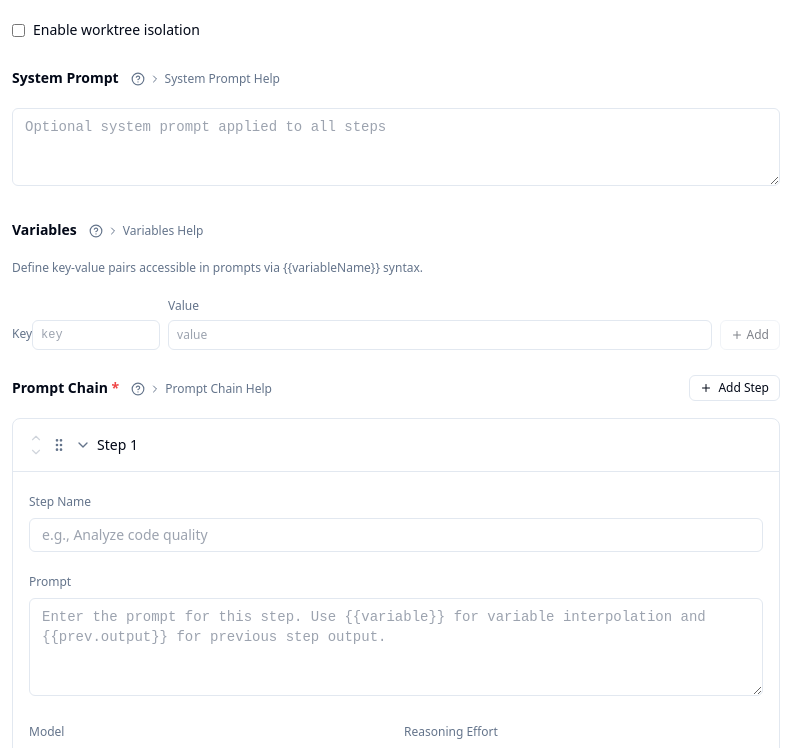
it: AutomationEditorPage › adds a step when 'Add Step' button is clicked
(page scrolled)
Check: the text "Step 1" is shown, box [97,435,138,455]
What coordinates should you click on to do the following:
click the button "Add Step"
I would click on:
 (735, 388)
Its box is [689,375,780,401].
(page scrolled)
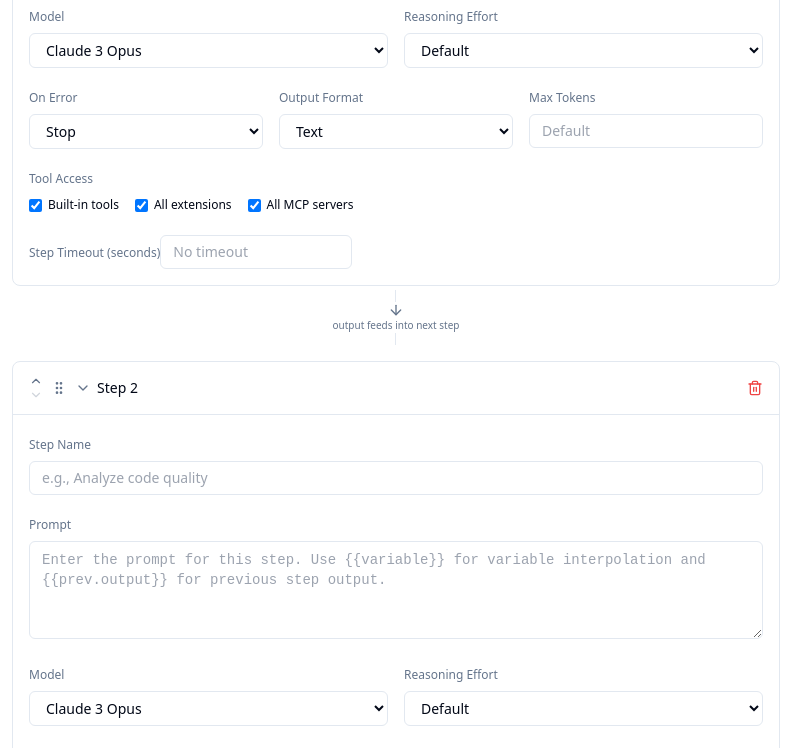
Check: the text "Step 2" is shown, box [97,378,138,398]
